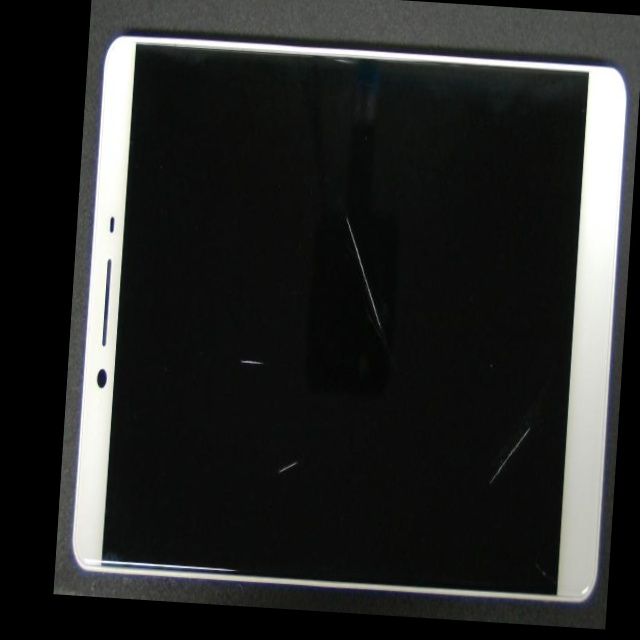scratch: (309, 155, 634, 630), (145, 216, 408, 615), (184, 168, 377, 535), (259, 208, 530, 427)
